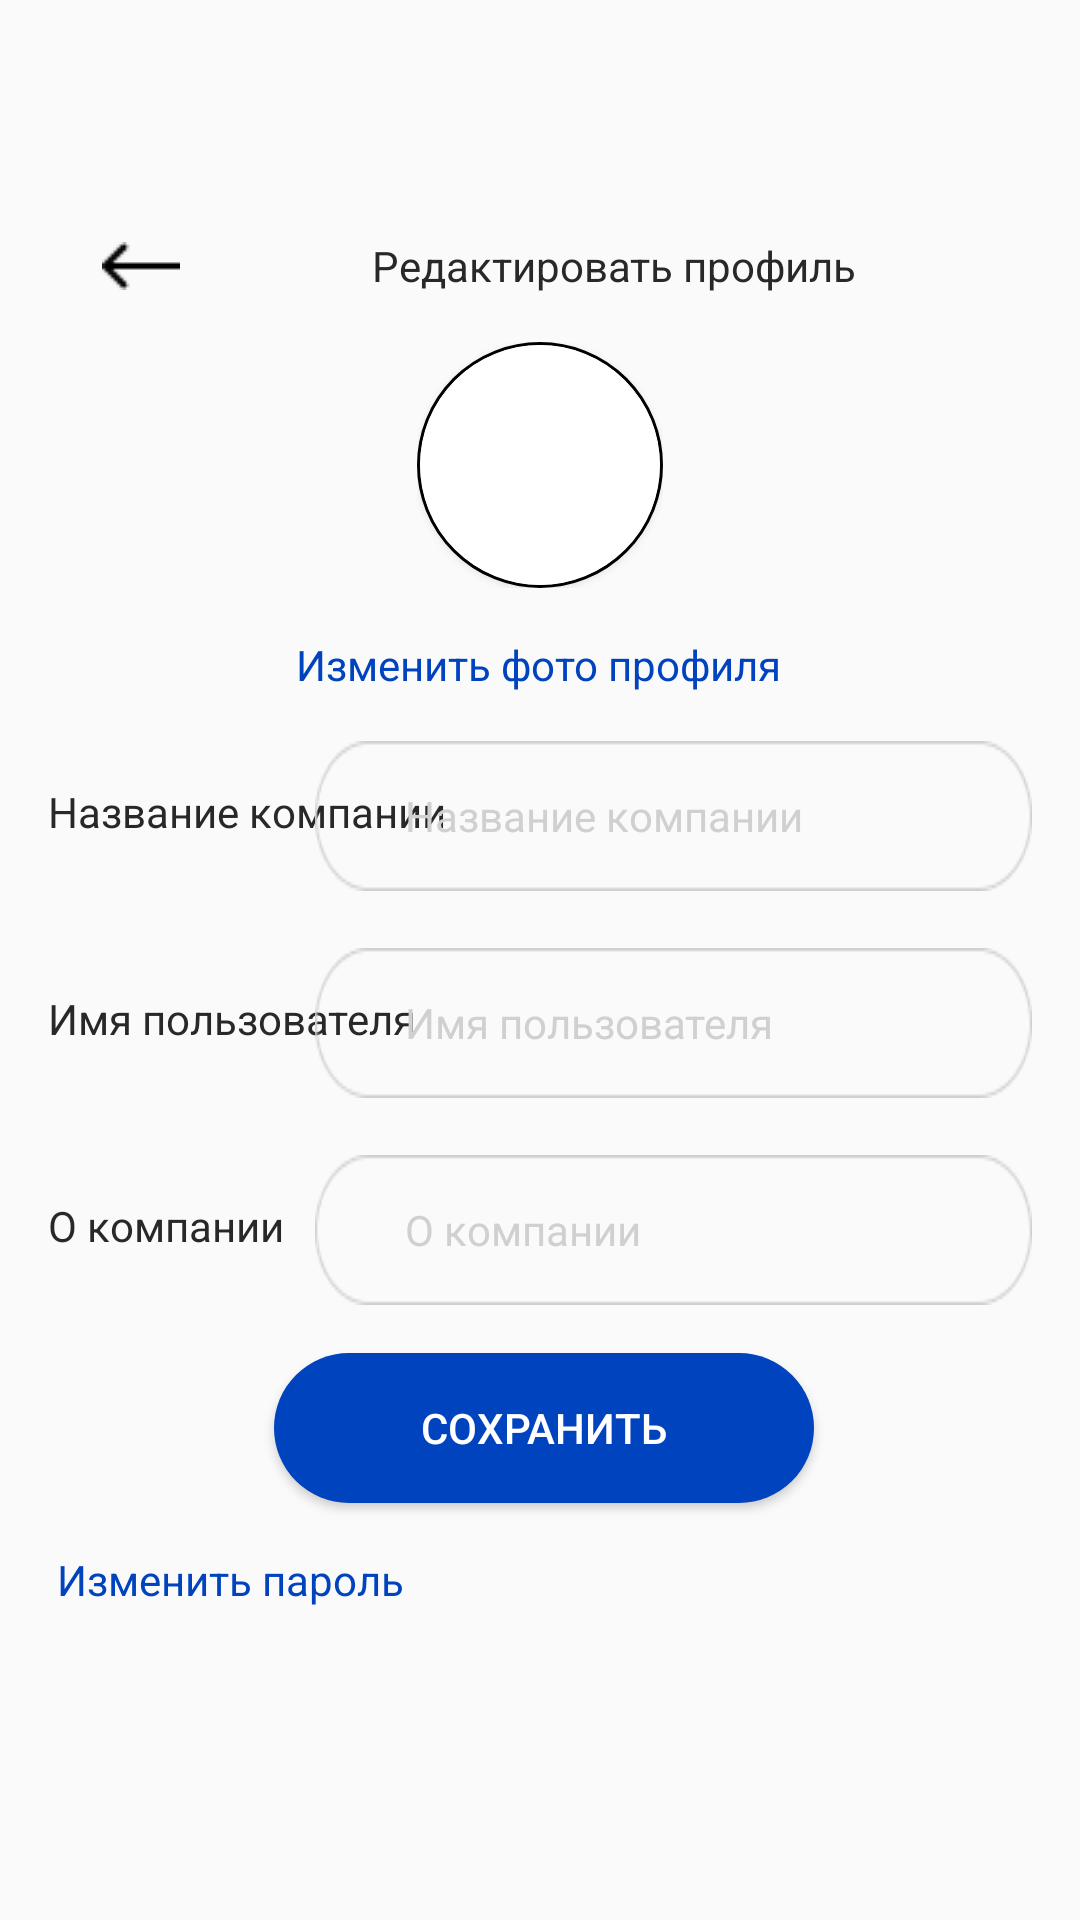

Named icons in this screenshot (1080×1920) and their bounding boxes, (x1, y1, x2, y2):
arrow left: (102, 242, 180, 290)
